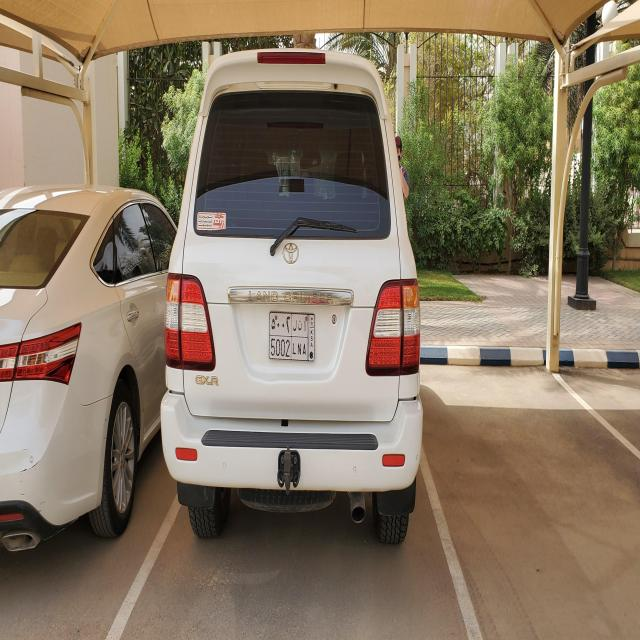license_plate: (268, 308, 316, 362)
